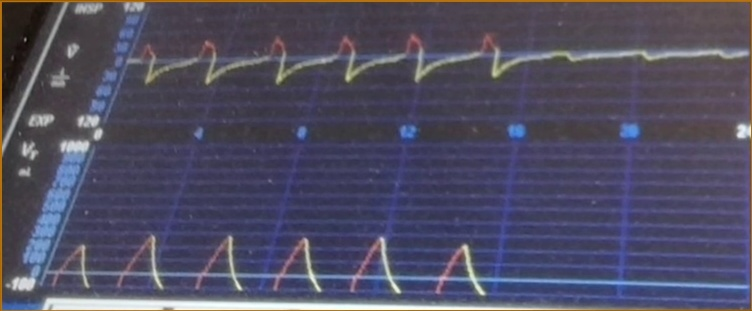Ineffective_effort Flow: (136, 23, 745, 108)
Ineffective_effort Volume: (50, 226, 524, 295)
